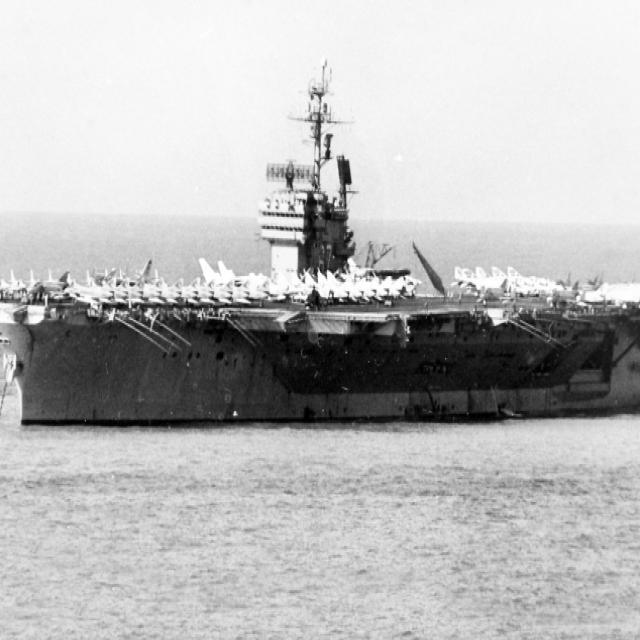Portanaves: (1, 42, 640, 432)
